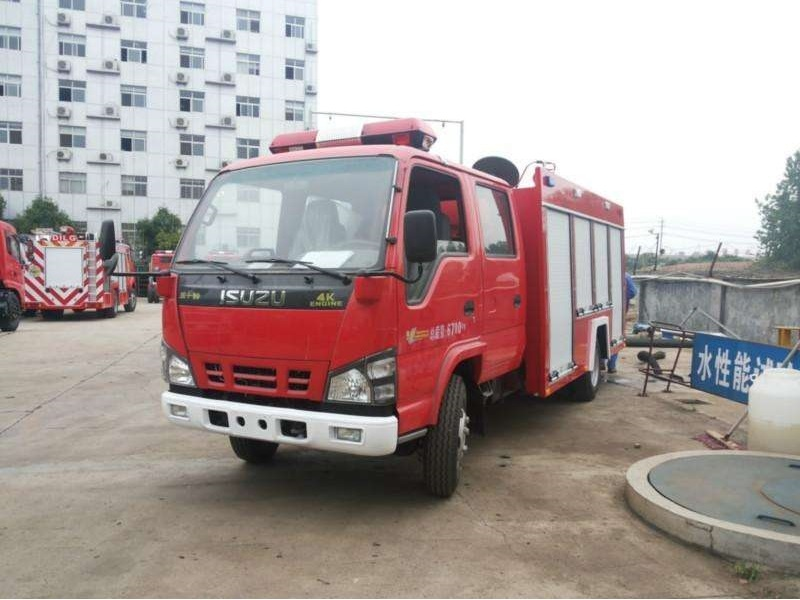fire engine: (137, 119, 641, 499)
